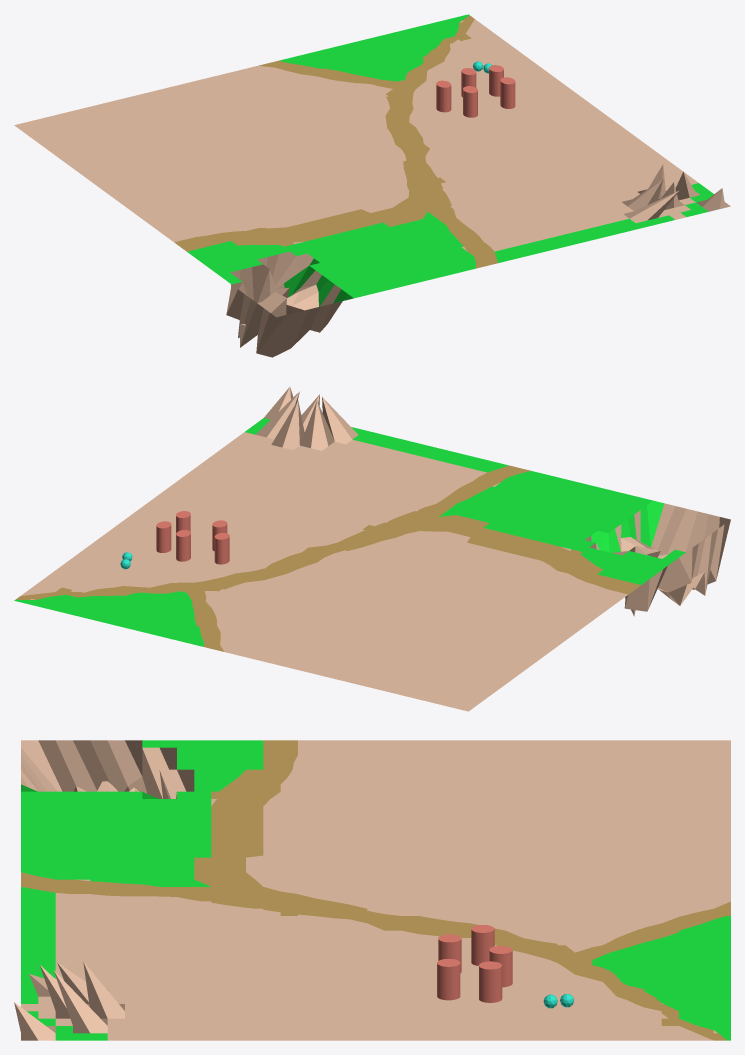
Rendered from Environment1.glb.
The picture shows the model from 3 angles, top to bottom: view 1: azimuth 30°, elevation 25°; view 2: azimuth 150°, elevation 25°; view 3: azimuth 270°, elevation 25°; orthographic projection. The views are drawn at different scales.
Parts seen in each view (by area): view 1: Plane; view 2: Plane; view 3: Plane.
Boxes of the visible parts, bbox=[...] form: Plane: bbox=[14, 14, 730, 357]; Plane: bbox=[14, 387, 730, 711]; Plane: bbox=[14, 740, 730, 1040].
Size of the model in its own units: 101 by 20.84 by 101.
